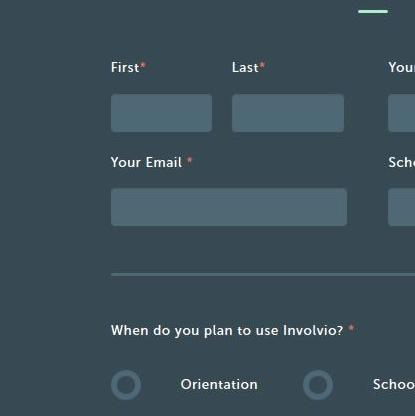field: (110, 185, 348, 227), (229, 92, 346, 134), (113, 93, 213, 133)
field_with_label: (108, 156, 351, 229), (229, 61, 348, 136), (108, 60, 217, 136)
radio: (302, 369, 336, 402), (111, 371, 145, 402)
radio_with_label: (108, 368, 264, 404)
